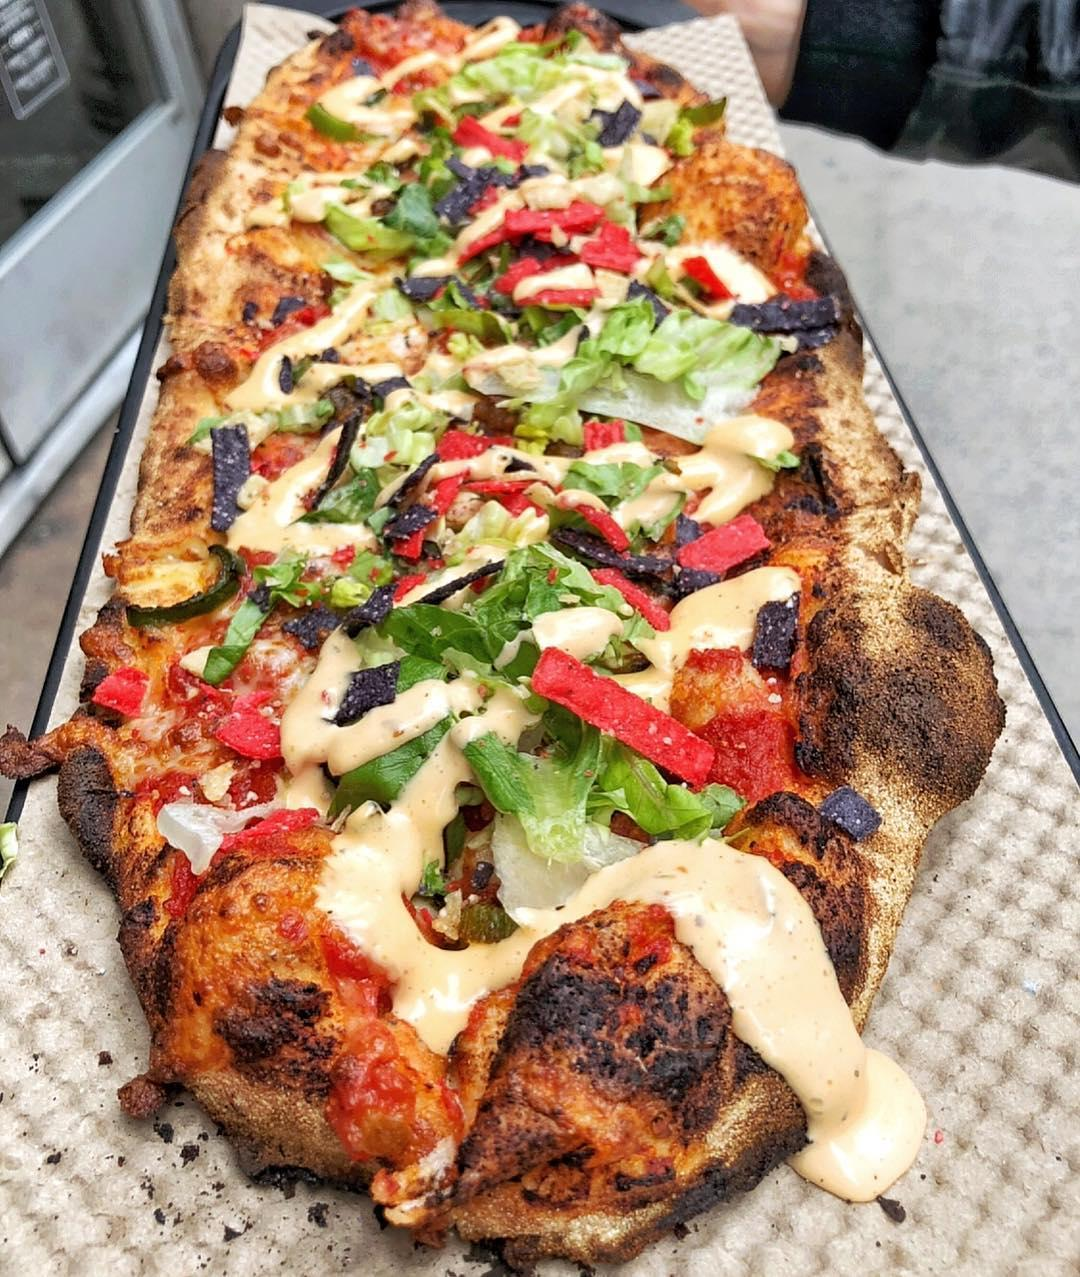Peppers: (133, 539, 242, 631)
Pizza: (105, 0, 913, 1218)
Tomatoes: (530, 647, 719, 786), (165, 798, 326, 918), (464, 195, 601, 257), (388, 467, 468, 562), (213, 682, 294, 764), (677, 515, 775, 575), (591, 566, 674, 633), (495, 258, 597, 310), (469, 474, 557, 517), (576, 499, 631, 552), (435, 430, 520, 461), (582, 238, 641, 277), (681, 257, 729, 298)
